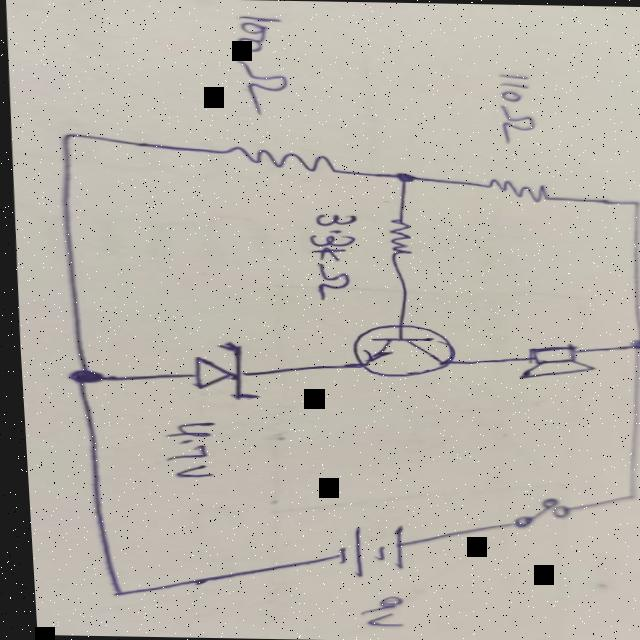diode: (185, 342, 259, 398)
junction: (62, 365, 110, 384), (386, 168, 421, 191), (99, 584, 129, 596), (617, 336, 640, 350), (55, 128, 83, 138), (612, 490, 639, 500), (624, 198, 640, 206)
resistor: (231, 144, 344, 172), (484, 177, 555, 202), (384, 216, 418, 255)
source: (328, 524, 408, 576)
switch: (501, 496, 574, 528)
text: (233, 14, 299, 116), (304, 210, 362, 300), (160, 420, 217, 477), (493, 70, 535, 144), (353, 592, 403, 626)
transistor: (346, 321, 458, 376)
